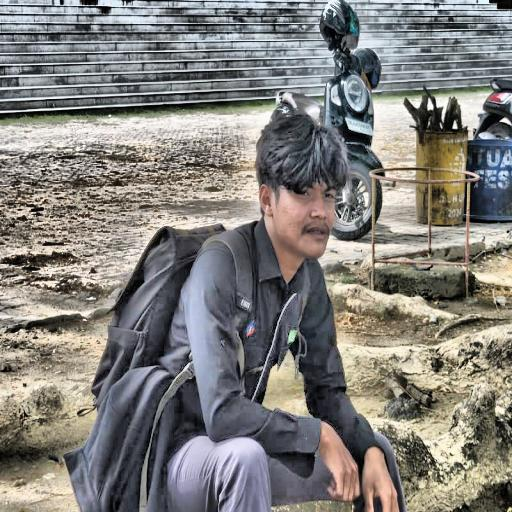Rokok: (319, 424, 403, 512)
